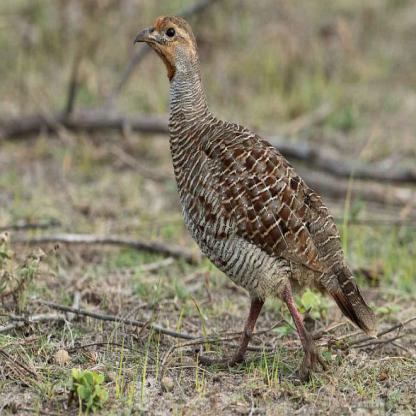Burung: (133, 14, 377, 381)
